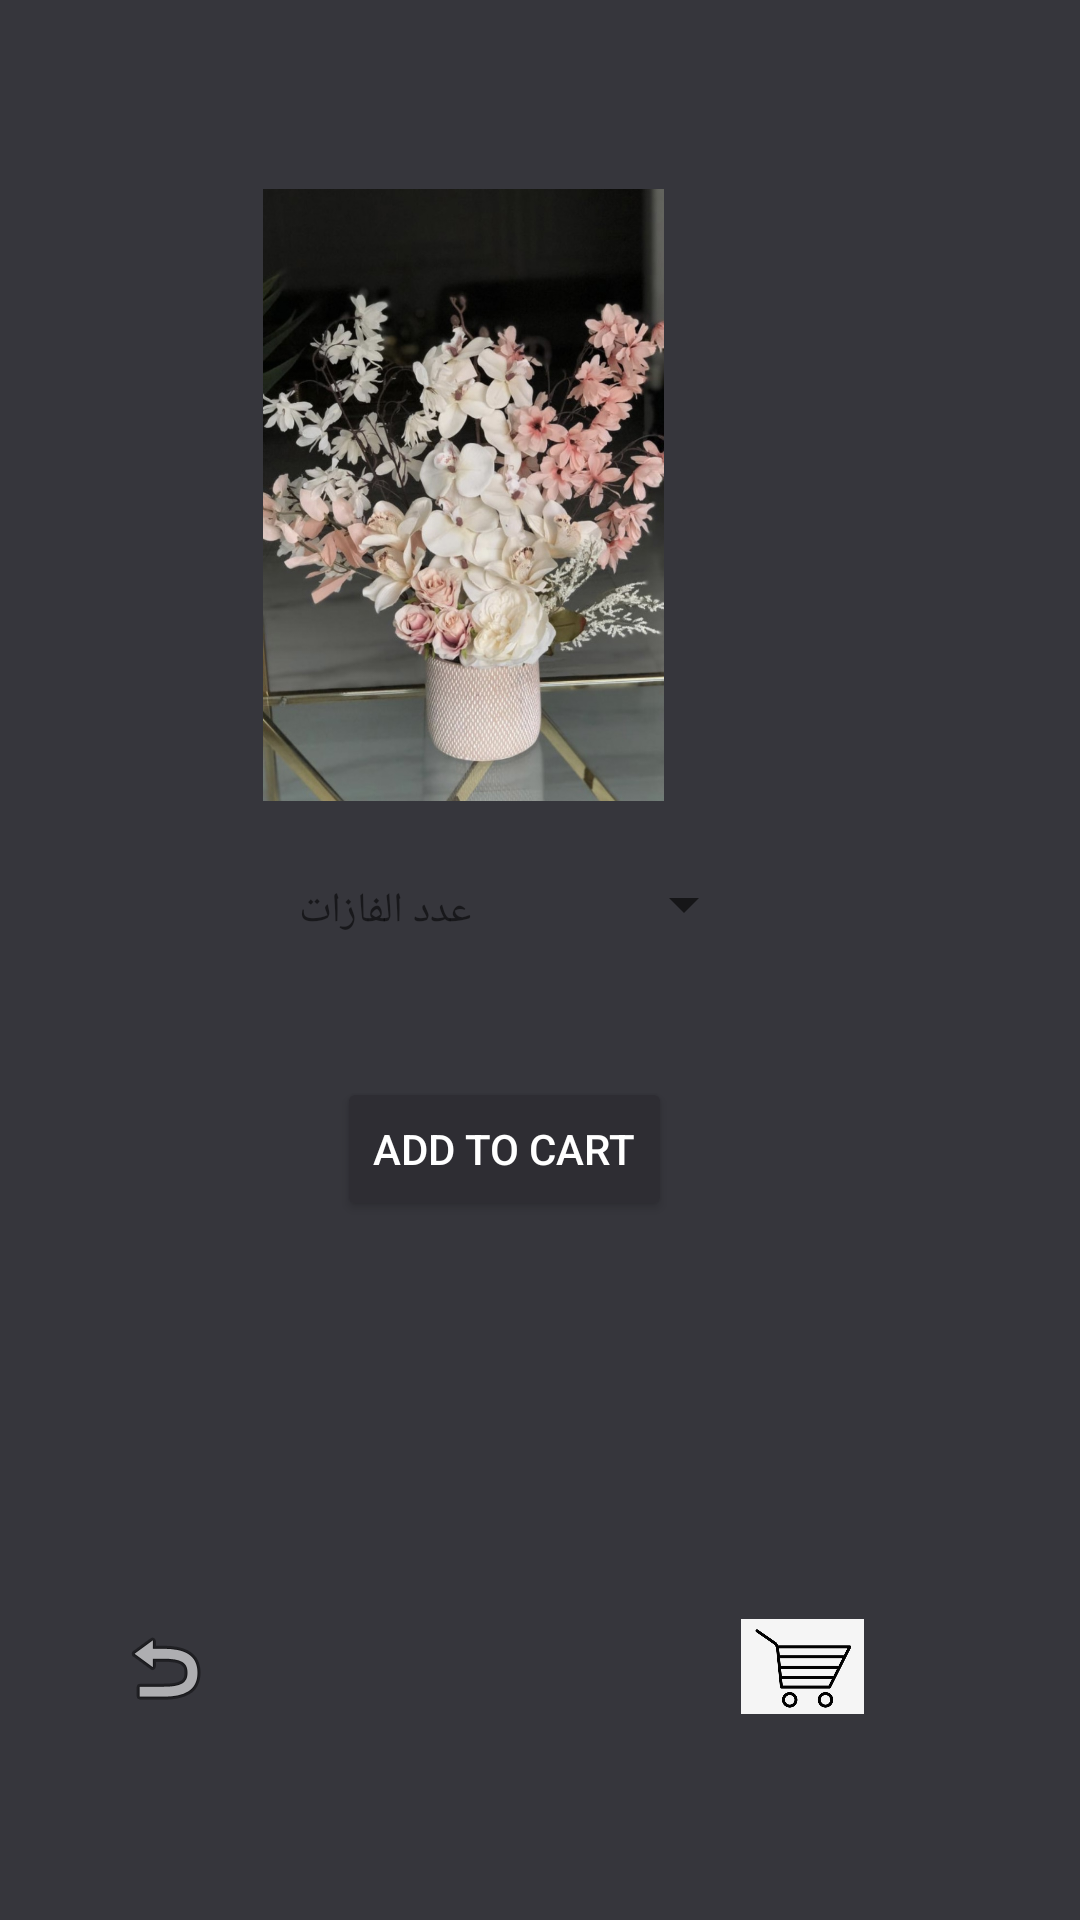

Screen size 1080x1920. Icon name, then its box in pixels as (x1,y1,x2,y2):
revert: (133,1639,199,1698)
